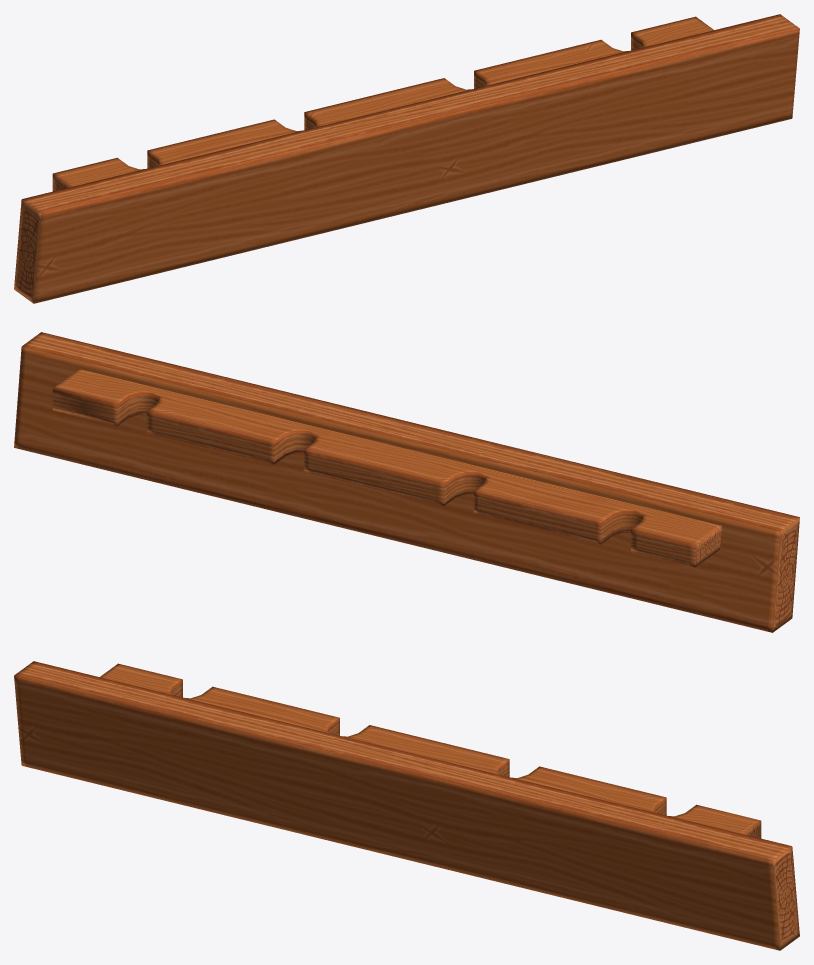
File: weapons_rack.fbx
3 renders of one model, top to bottom at view 1: azimuth 30°, elevation 25°; view 2: azimuth 150°, elevation 25°; view 3: azimuth 330°, elevation 25°, orthographic.
Visible parts, largest first — view 1: Cube.023; view 2: Cube.023; view 3: Cube.023.
Boxes of the visible parts, box(x1,y1,x2,y2) form: Cube.023: box(14, 14, 799, 303); Cube.023: box(14, 332, 799, 632); Cube.023: box(14, 661, 799, 950).
Size of the model in its own units: 1.44 by 0.1731 by 0.1519.
